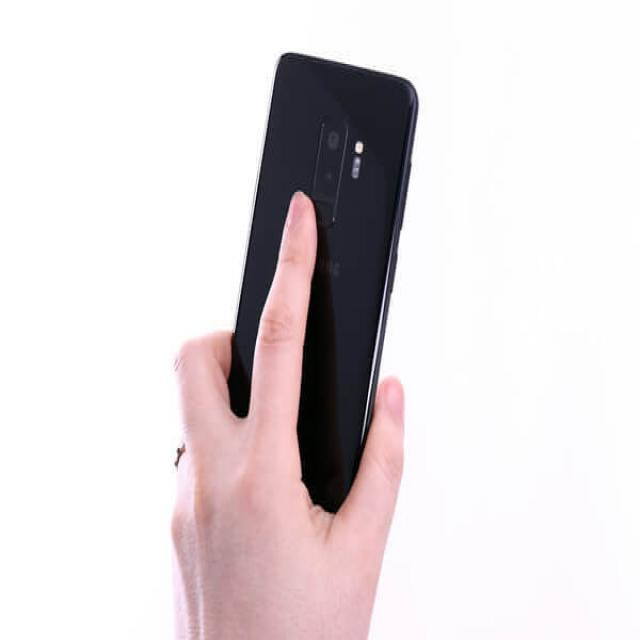Mobile: (226, 50, 424, 522)
